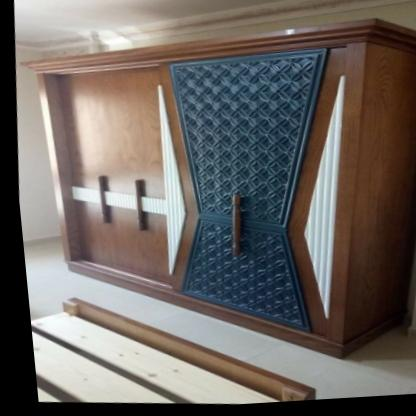Closet: (25, 23, 416, 364)
